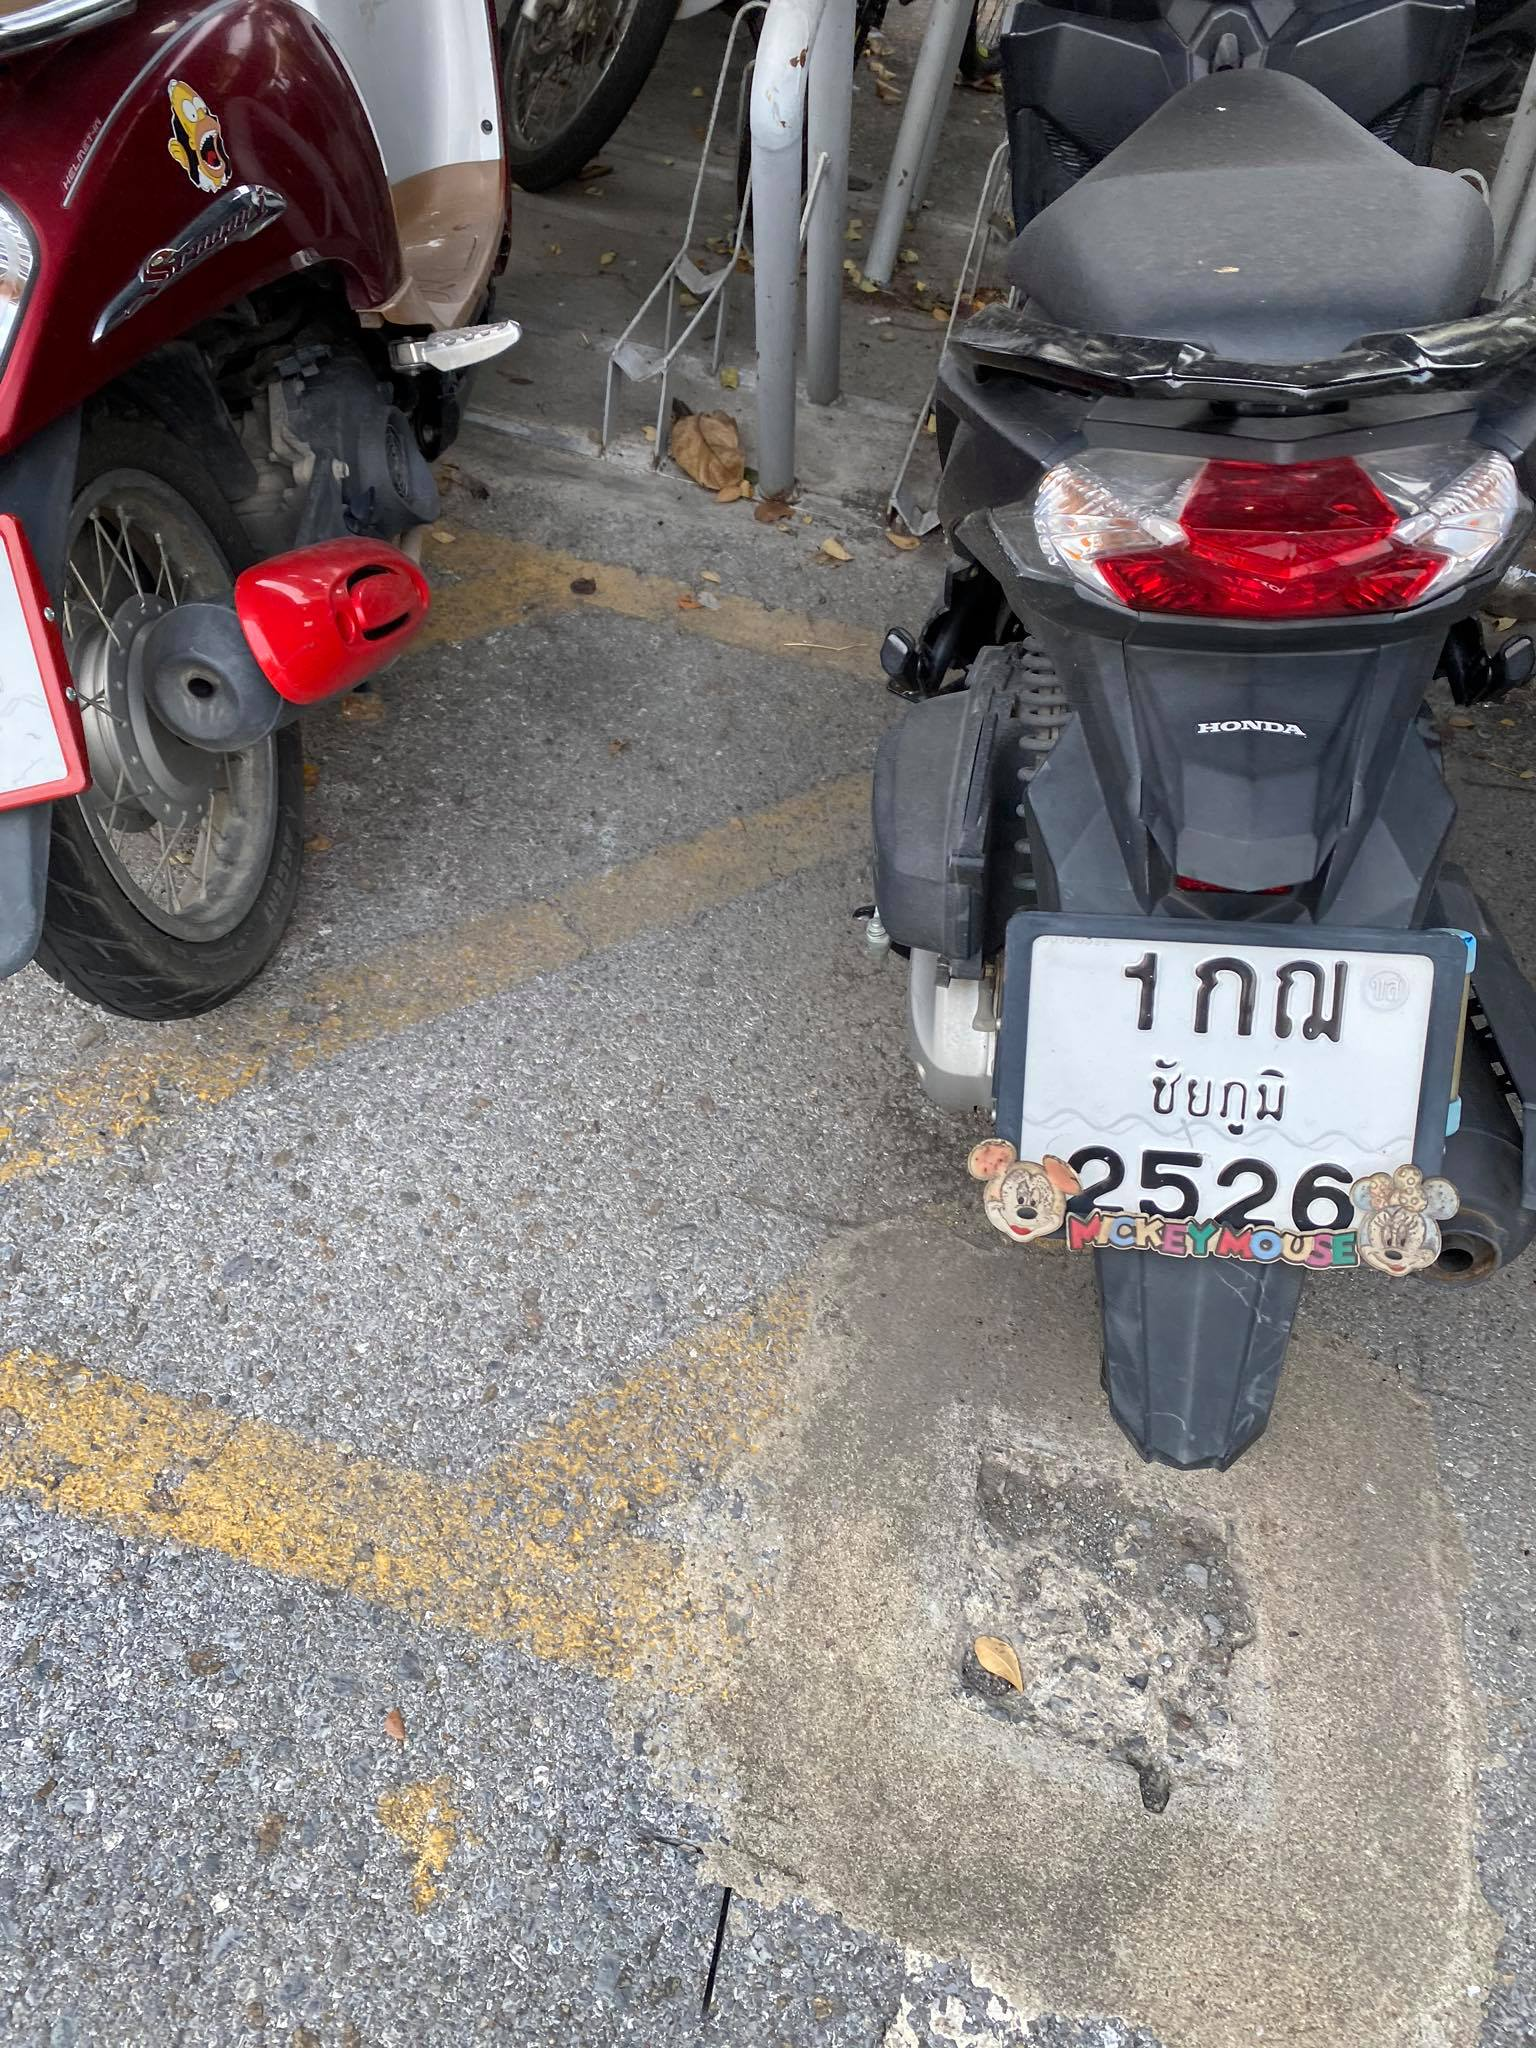line1: (1113, 930, 1360, 1051)
line2: (1141, 1055, 1297, 1138)
line3: (1060, 1138, 1363, 1230)
